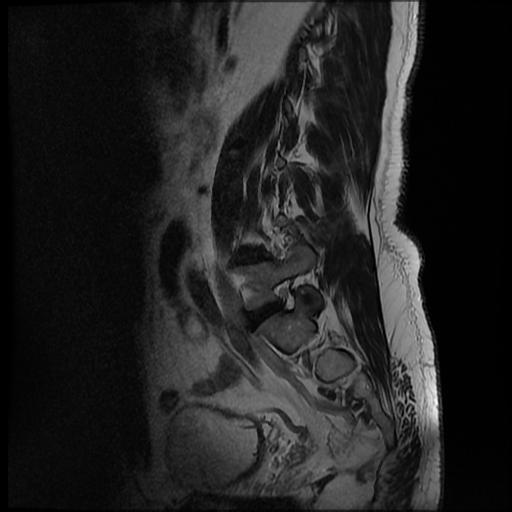RFS0: (265, 271, 307, 322)
